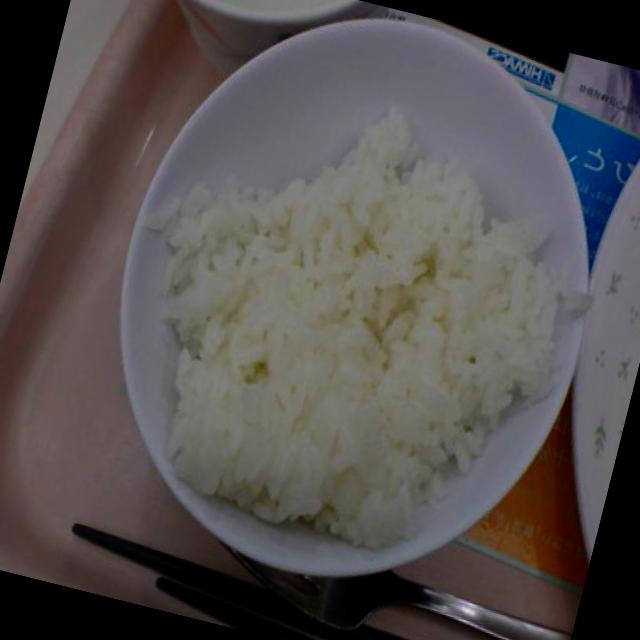Rice: (112, 106, 572, 576)
